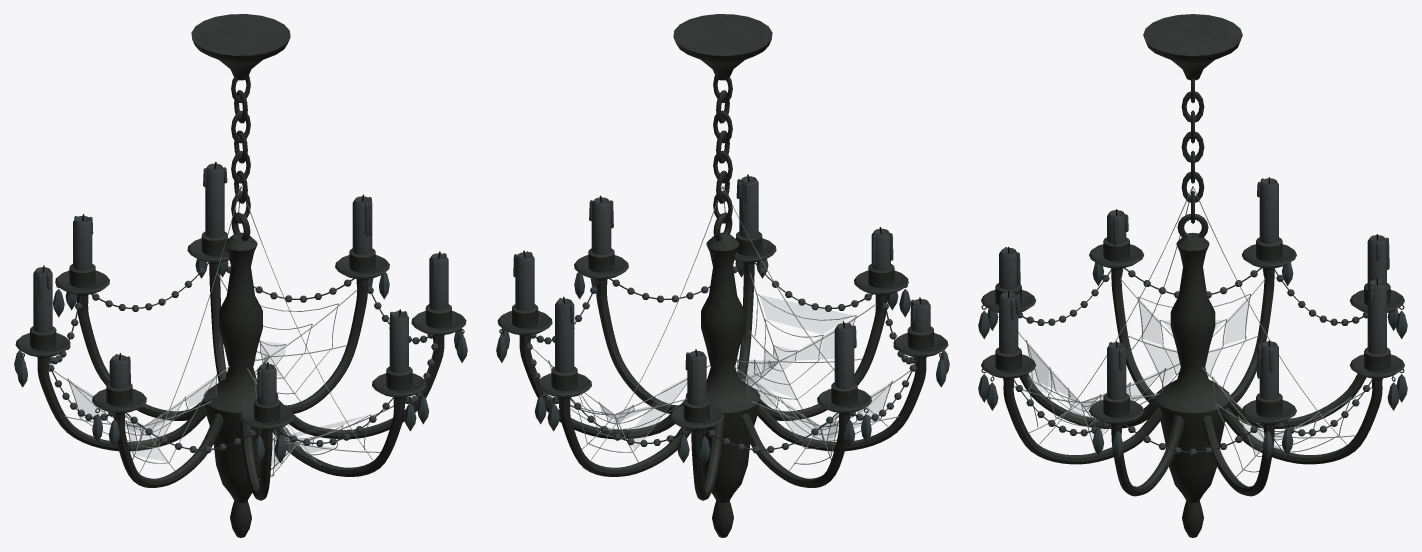
File: dusty-chandelier.glb
3 views of the same model, side by side, from view 1: azimuth 30°, elevation 25°; view 2: azimuth 150°, elevation 25°; view 3: azimuth 270°, elevation 25° (orthographic).
Parts seen in each view (by area): view 1: dusty-chandelier_body, dusty-chandelier_web; view 2: dusty-chandelier_body, dusty-chandelier_web; view 3: dusty-chandelier_body, dusty-chandelier_web.
Boxes of the visible parts, x1,y1,x2,y2 form: dusty-chandelier_body: (14,14,467,537); dusty-chandelier_web: (53,186,393,480); dusty-chandelier_body: (496,14,949,537); dusty-chandelier_web: (532,186,910,470); dusty-chandelier_body: (978,14,1407,537); dusty-chandelier_web: (1014,186,1371,477).
Size of the model in its own units: 0.775 by 1 by 0.775.
3 materials, 1 textured.
